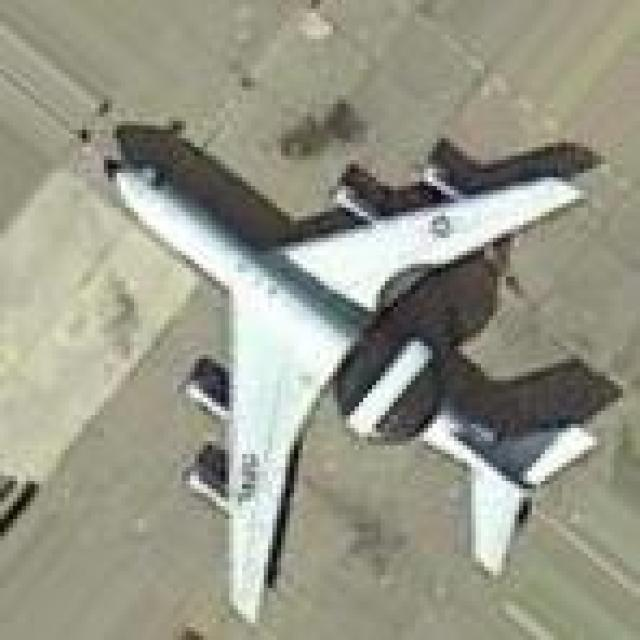E-3_TopDown: (91, 108, 614, 623)
